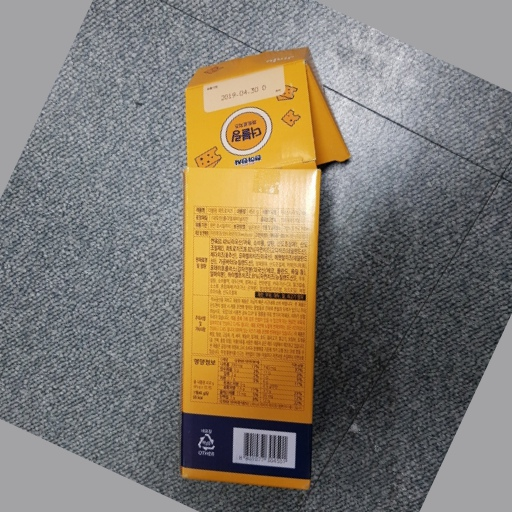Paper_0: (165, 40, 347, 503)
